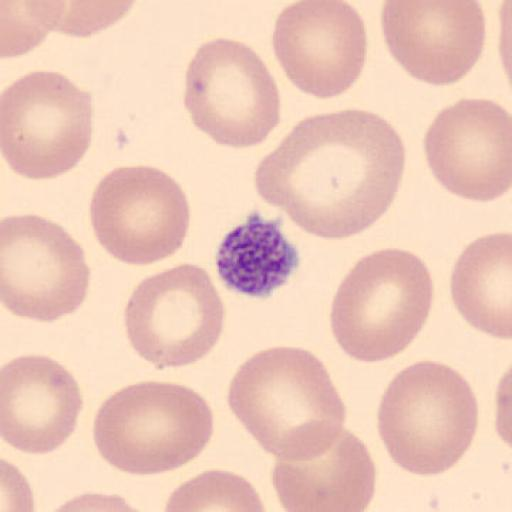Platelet: (212, 211, 303, 300)
RBC: (253, 106, 405, 242), (226, 345, 349, 462), (329, 245, 435, 364), (376, 358, 480, 478), (92, 379, 215, 477), (122, 261, 226, 372), (182, 36, 282, 150), (87, 163, 192, 267), (2, 69, 93, 181), (2, 212, 92, 324), (270, 0, 370, 100), (270, 420, 377, 512), (422, 96, 511, 204), (380, 0, 488, 87), (2, 352, 85, 456), (449, 231, 512, 340), (162, 467, 268, 512), (2, 0, 66, 59), (42, 0, 140, 38), (43, 490, 153, 511), (492, 360, 512, 460), (1, 457, 36, 512), (493, 366, 512, 454), (496, 0, 512, 82)
